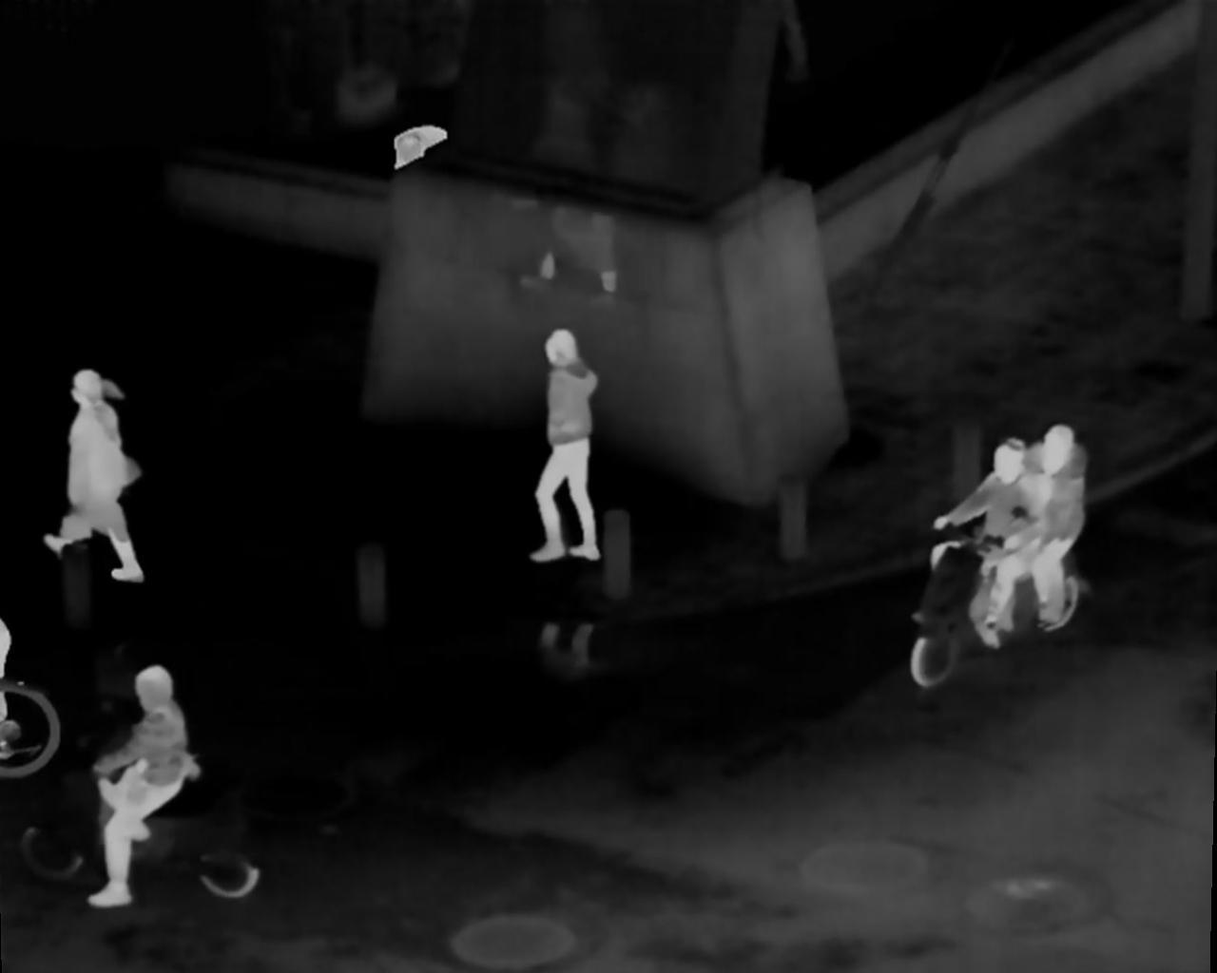person: (85, 659, 203, 914), (43, 365, 142, 580), (953, 436, 1045, 646), (531, 330, 611, 563), (1014, 428, 1110, 607)
